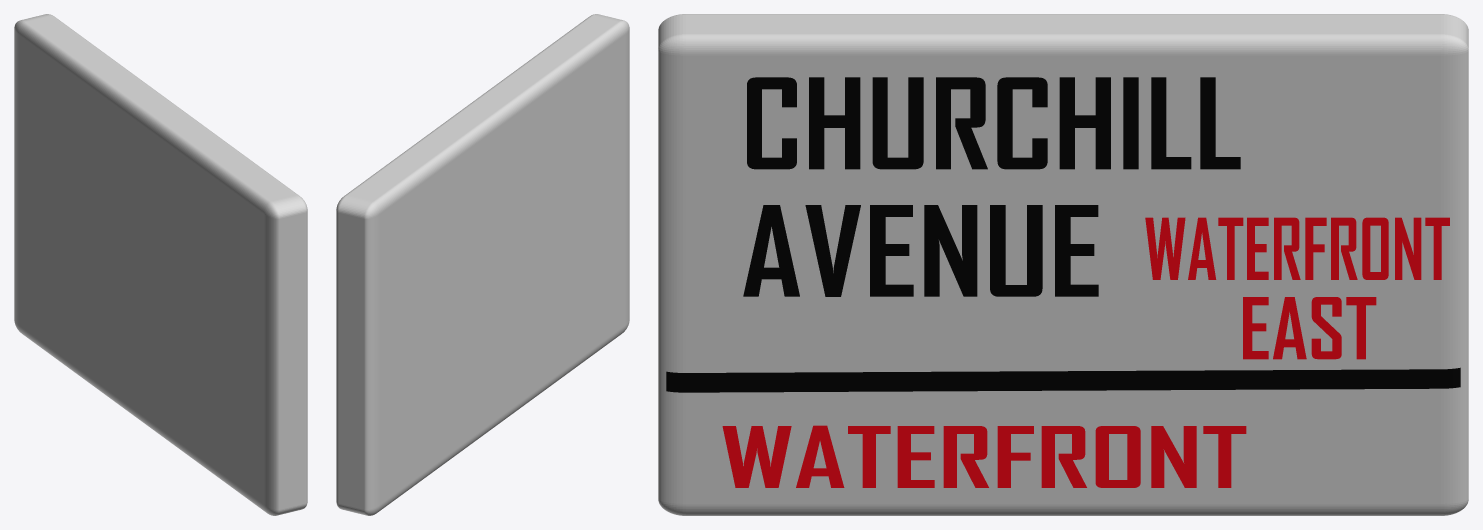
File: uk_styled_street_sign_48.fbx
3 views of the same model, side by side, from view 1: azimuth 30°, elevation 25°; view 2: azimuth 150°, elevation 25°; view 3: azimuth 270°, elevation 25° (orthographic). The views are drawn at different scales.
Visible parts, largest first — view 1: Cube; view 2: Cube; view 3: Cube, Text, Text.002, Text.001, Text.003, Text.004.
Boxes of the visible parts, x1,y1,x2,y2 form: Cube: [14, 14, 307, 515]; Cube: [336, 14, 629, 515]; Cube: [658, 14, 1468, 515]; Text: [747, 77, 1240, 169]; Text.002: [722, 425, 1246, 487]; Text.001: [743, 205, 1098, 296]; Text.003: [1145, 217, 1449, 279]; Text.004: [1243, 297, 1376, 359].
Bounding box in the file's own units: 1.63 × 11.91 × 18.18.
